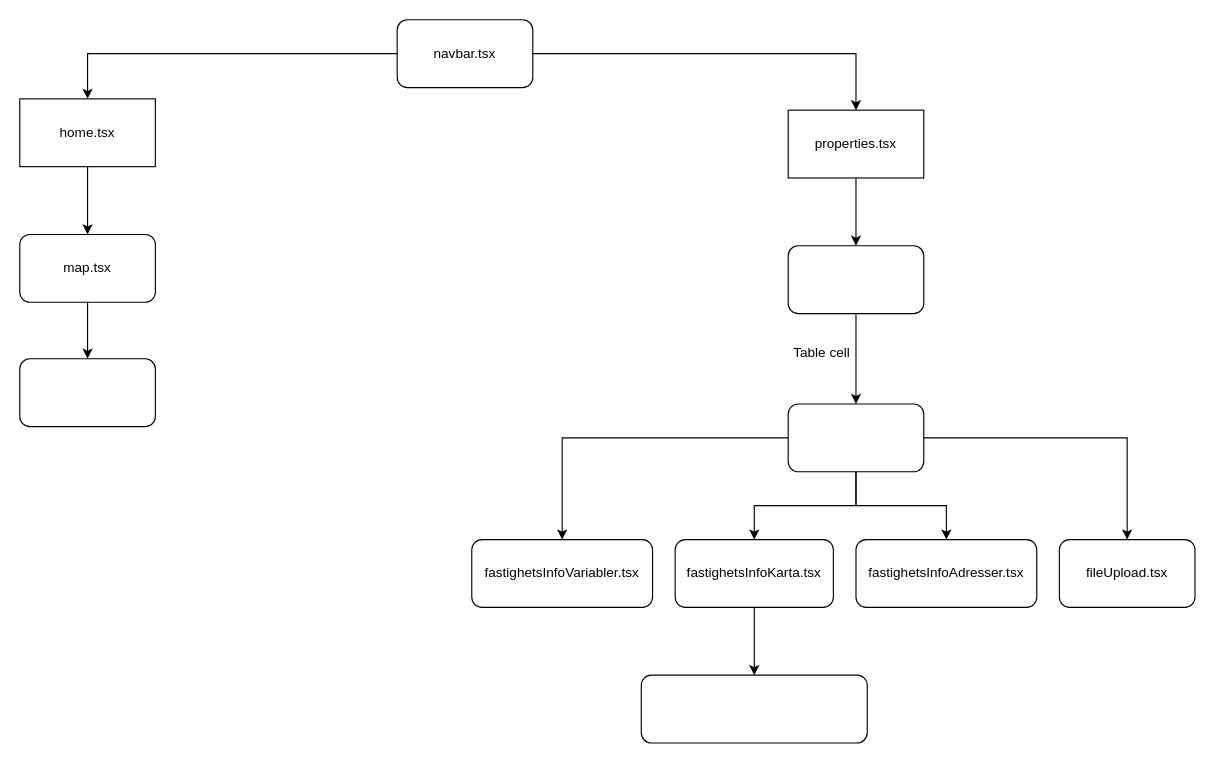
Some shapes in this 1215 by 763 pixel diagram are drawn without their labels. The centre of each missing label's shape, as x and y in pixels:
"dataTable.tsx" belongs at point 855,279.
"fastighetsInfo.tsx" belongs at point 855,437.
"fastighetsInfoRedigeraPolygon.tsx" belongs at point 753,708.
"propertiesForm.tsx" belongs at point 87,392.
